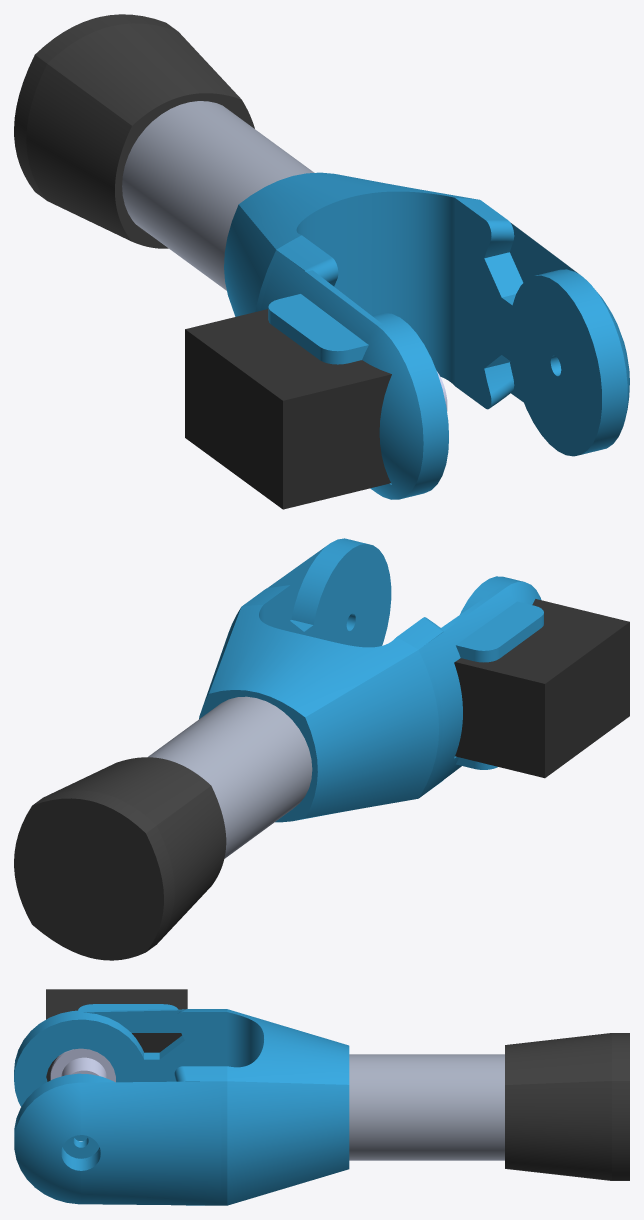
File: forearm_link.dae
3 renders of one model, top to bottom at view 1: azimuth 30°, elevation 25°; view 2: azimuth 150°, elevation 25°; view 3: azimuth 270°, elevation 25°, orthographic. The views are drawn at different scales.
Visible parts, largest first — view 1: Body_1 (×4); view 2: Body_1 (×4); view 3: Body_1 (×5).
Boxes of the visible parts, <box> form: Body_1 (×4): <box>14,14,629,509</box>; Body_1 (×4): <box>14,538,629,960</box>; Body_1 (×5): <box>14,989,629,1205</box>.
Size of the model in its own units: 0.0963 by 0.202 by 0.05.
